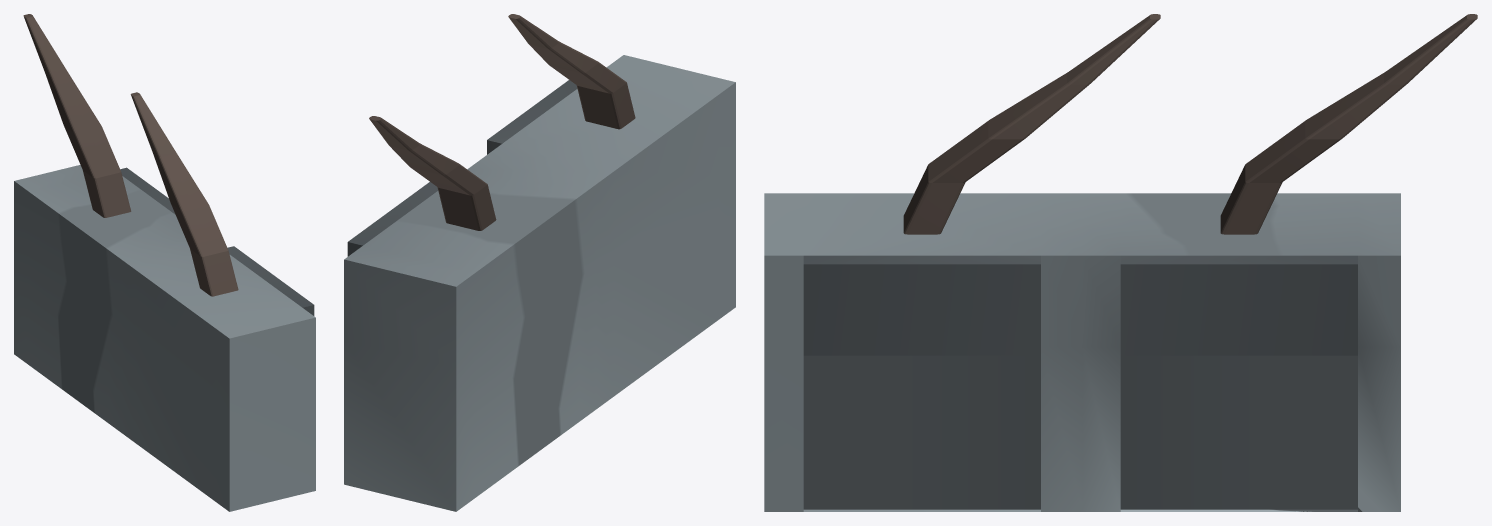
Rendered from radio.fbx.
3 renders of one model, left to right at view 1: azimuth 30°, elevation 25°; view 2: azimuth 150°, elevation 25°; view 3: azimuth 270°, elevation 25°, orthographic. The views are drawn at different scales.
Visible parts, largest first — view 1: Cube; view 2: Cube; view 3: Cube.
Boxes of the visible parts, left/top/right/bottom form: Cube: left=14, top=14, right=315, bottom=511; Cube: left=344, top=14, right=735, bottom=511; Cube: left=764, top=14, right=1477, bottom=511.
Bounding box in the file's own units: 118 × 359 × 504.
